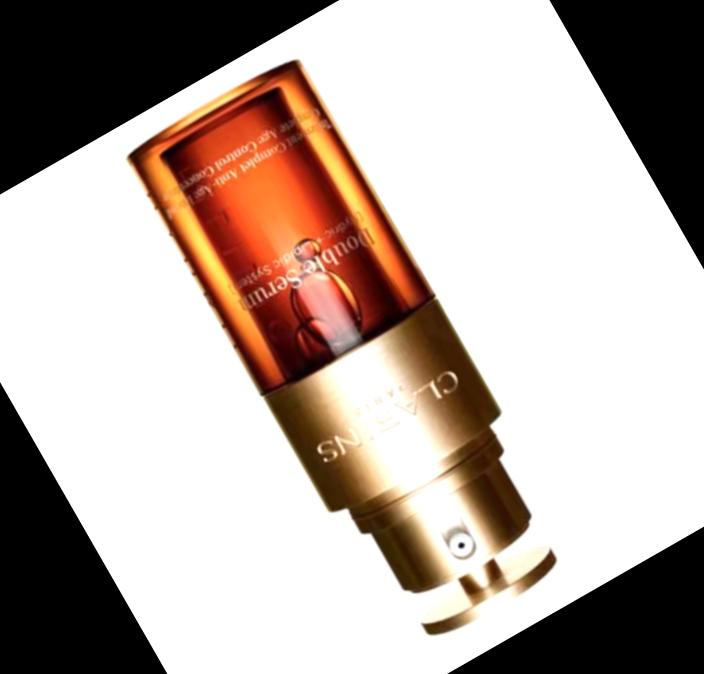cosmetic: (123, 54, 596, 665)
